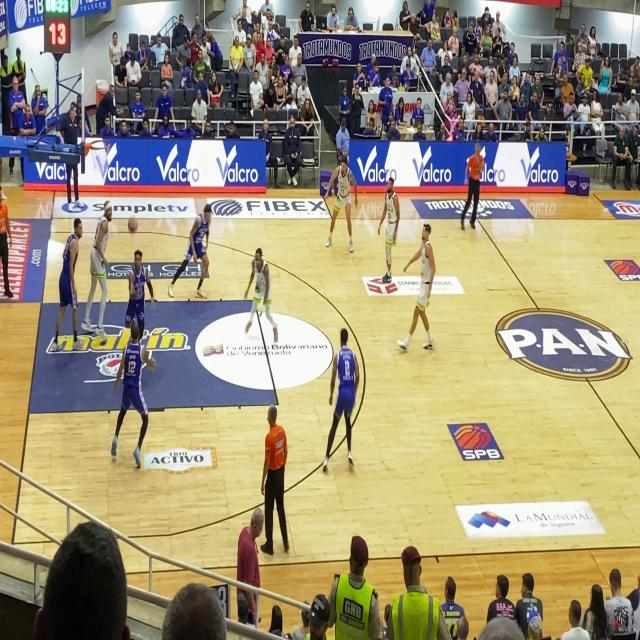Ball: (124, 217, 142, 234)
referee: (256, 403, 305, 563), (454, 132, 492, 249), (0, 165, 12, 311)
team1: (402, 222, 436, 365), (244, 240, 282, 356), (369, 169, 402, 302), (87, 200, 116, 350), (324, 152, 355, 255)
team2: (106, 317, 154, 462), (323, 322, 365, 472), (171, 184, 221, 309), (58, 212, 89, 357), (114, 248, 163, 323)
ubasket: (87, 136, 111, 167)
